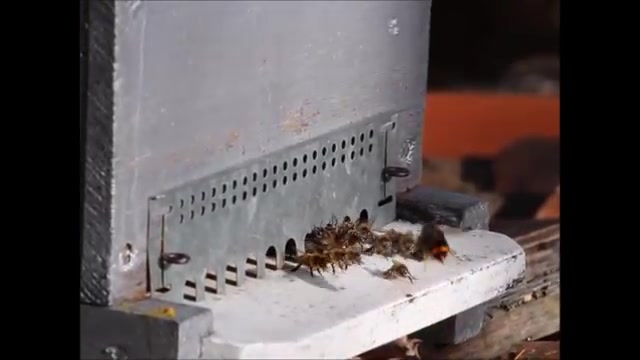bee: (291, 248, 359, 279), (377, 229, 415, 256), (388, 259, 416, 283), (355, 221, 381, 244), (313, 227, 342, 246)
hornet: (417, 220, 455, 265)
